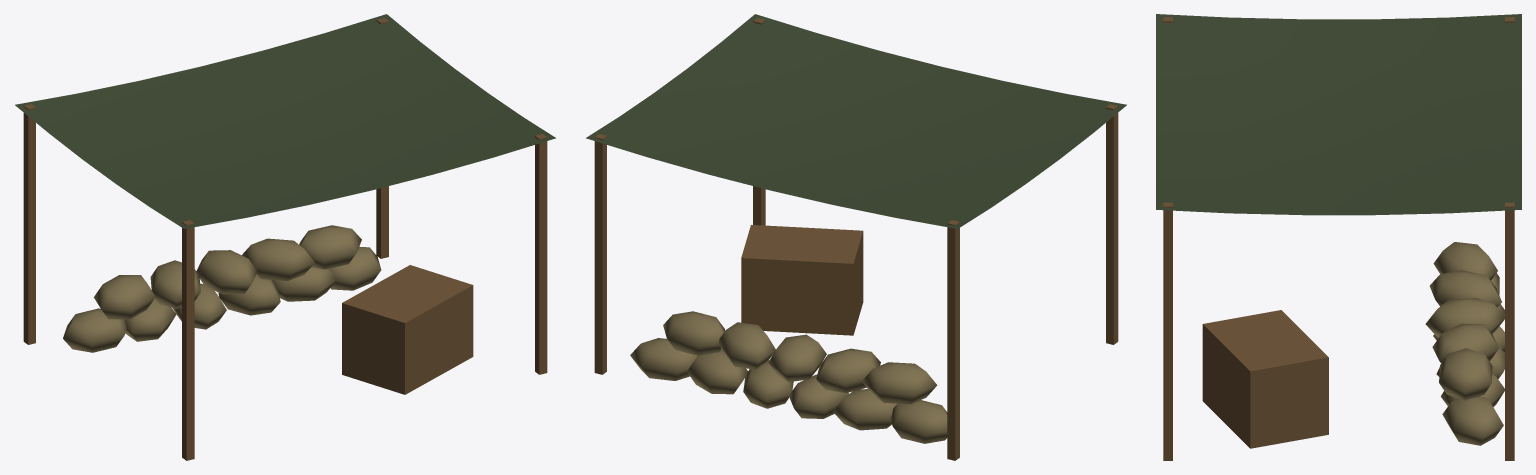
File: bldg_awning_shelter.glb
3 views of the same model, side by side, from view 1: azimuth 30°, elevation 25°; view 2: azimuth 150°, elevation 25°; view 3: azimuth 270°, elevation 25° (orthographic). The views are drawn at different scales.
Parts seen in each view (by area): view 1: CamoNetSheet, SandbagBasePanel, Bldg_AwningShelter, CamoNetAwning; view 2: CamoNetSheet, SandbagBasePanel, Bldg_AwningShelter, CamoNetAwning; view 3: CamoNetSheet, Bldg_AwningShelter, SandbagBasePanel, CamoNetAwning.
Part boxes in pixels (<box>): CamoNetSheet: <box>15,14,555,228</box>; SandbagBasePanel: <box>63,225,381,352</box>; Bldg_AwningShelter: <box>342,265,473,394</box>; CamoNetAwning: <box>23,18,547,460</box>; CamoNetSheet: <box>586,14,1126,228</box>; SandbagBasePanel: <box>630,311,947,443</box>; Bldg_AwningShelter: <box>741,225,863,335</box>; CamoNetAwning: <box>594,18,1118,460</box>; CamoNetSheet: <box>1156,14,1521,215</box>; Bldg_AwningShelter: <box>1202,310,1328,448</box>; SandbagBasePanel: <box>1425,242,1504,445</box>; CamoNetAwning: <box>1163,17,1514,460</box>.
Bounding box in the file's own units: 3.8 × 2.36 × 3.
